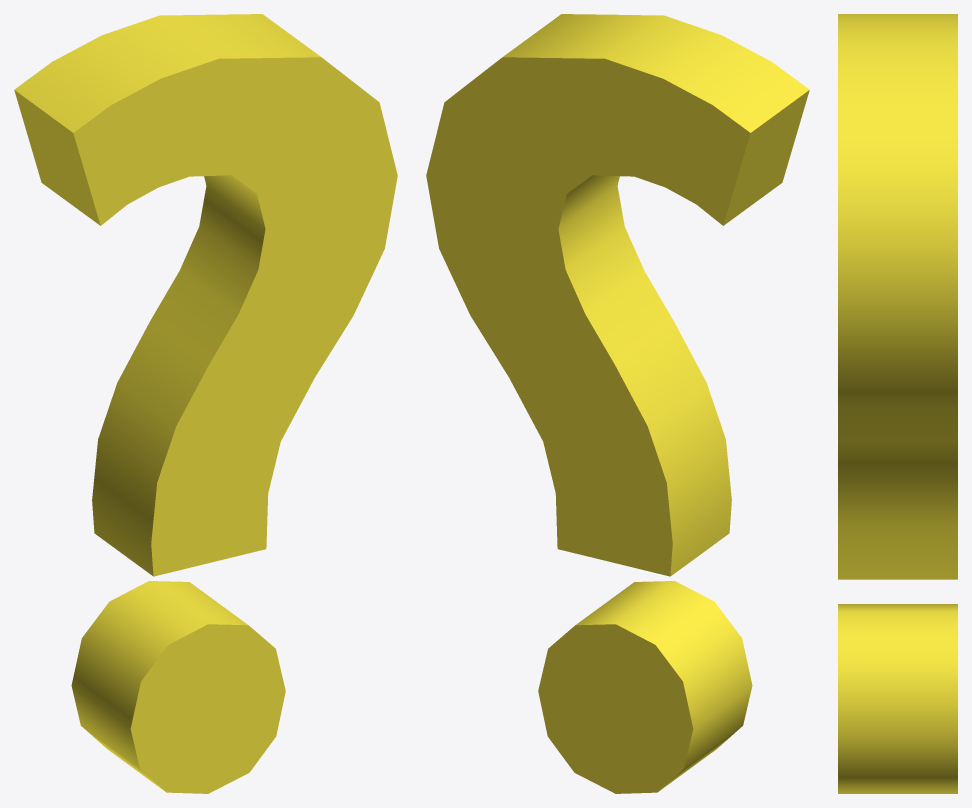
File: dauchamhoi.fbx
3 views of the same model, side by side, from view 1: azimuth 30°, elevation 25°; view 2: azimuth 150°, elevation 25°; view 3: azimuth 270°, elevation 25° (orthographic).
Visible parts, largest first — view 1: dauhoi; view 2: dauhoi; view 3: dauhoi.
Boxes of the visible parts, x1=… form: dauhoi: x1=14, y1=14, x2=397, y2=793; dauhoi: x1=426, y1=14, x2=809, y2=793; dauhoi: x1=838, y1=14, x2=957, y2=793.
Size of the model in its own units: 14.14 by 30.52 by 4.47.
